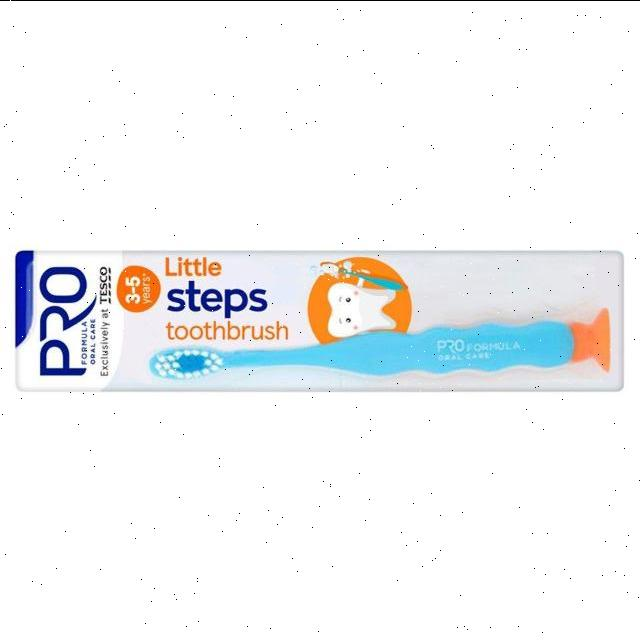toothbrush: (140, 306, 632, 408)
